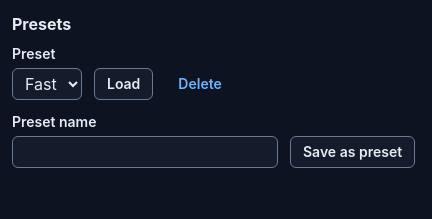
Test: Presets › shows a failed request, and the next change clears it
The image size is (432, 219).
Click the button "Save as preset" at [353, 152], box [290,136,415,168]
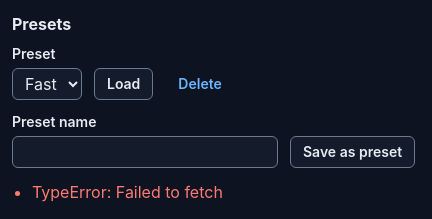
Click the button "Save as preset" at [353, 152], box [290,136,415,168]
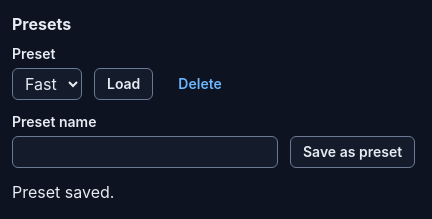
Expected: the message "Preset saved." is shown, [12,182,114,202]
Expected: the message "TypeError: Failed to fetch" is gone
Click the button "Save as preset" at [353, 152], box [290,136,415,168]
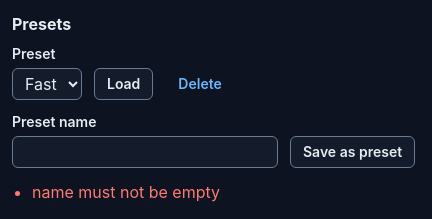
Expected: the message "Preset saved." is gone
